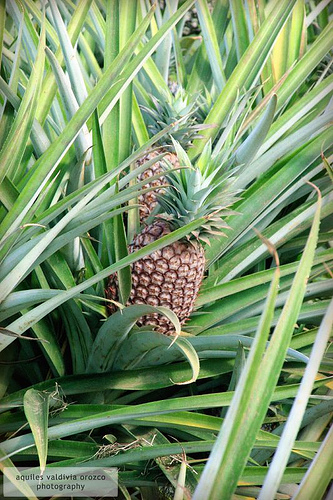pineapple: (121, 128, 249, 341), (128, 91, 200, 227)
